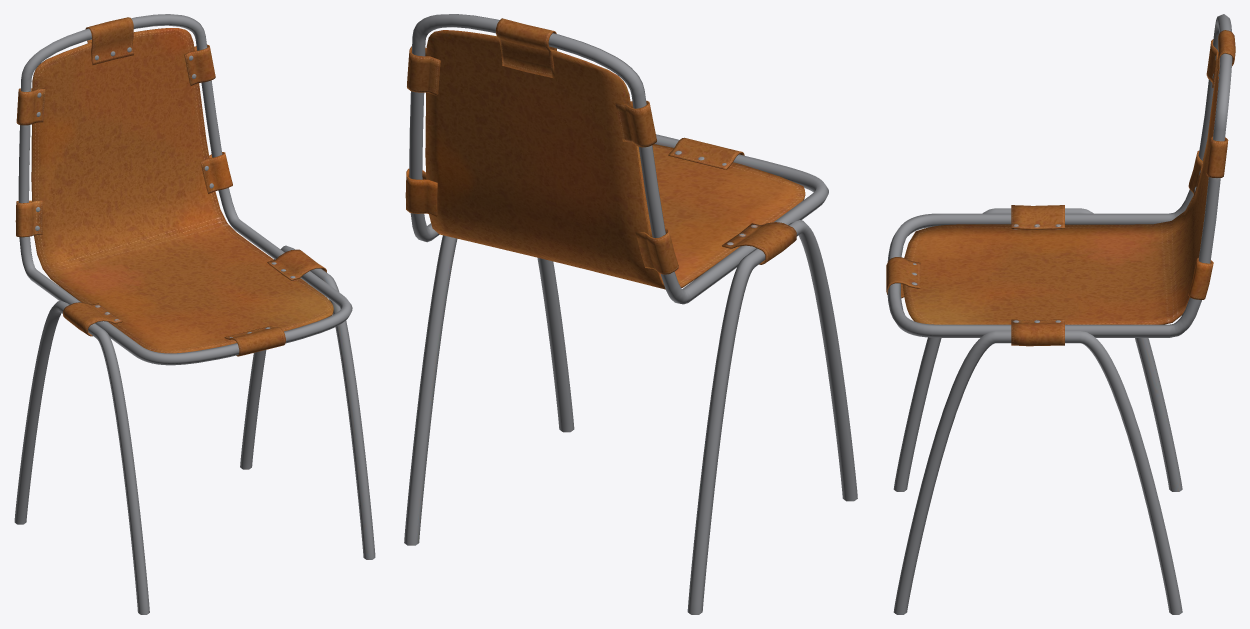
The picture shows the model from 3 angles, left to right: view 1: azimuth 30°, elevation 25°; view 2: azimuth 150°, elevation 25°; view 3: azimuth 270°, elevation 25°; orthographic projection. The views are drawn at different scales.
Parts seen in each view (by area): view 1: chair_low; view 2: chair_low; view 3: chair_low.
Part boxes in pixels (box(x1,y1,x2,y2)): chair_low: box(14, 14, 375, 614); chair_low: box(404, 14, 857, 614); chair_low: box(886, 14, 1235, 614).
Bounding box in the file's own units: 0.484 × 0.88 × 0.5475.
Materials: 1 (1 with a texture image).
